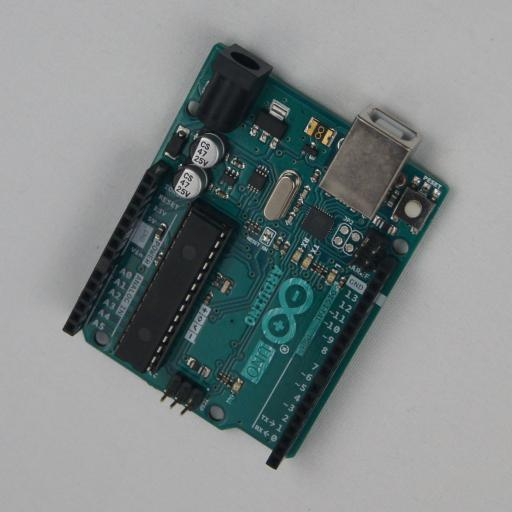Arduino Uno -Green-: (62, 42, 450, 470)
